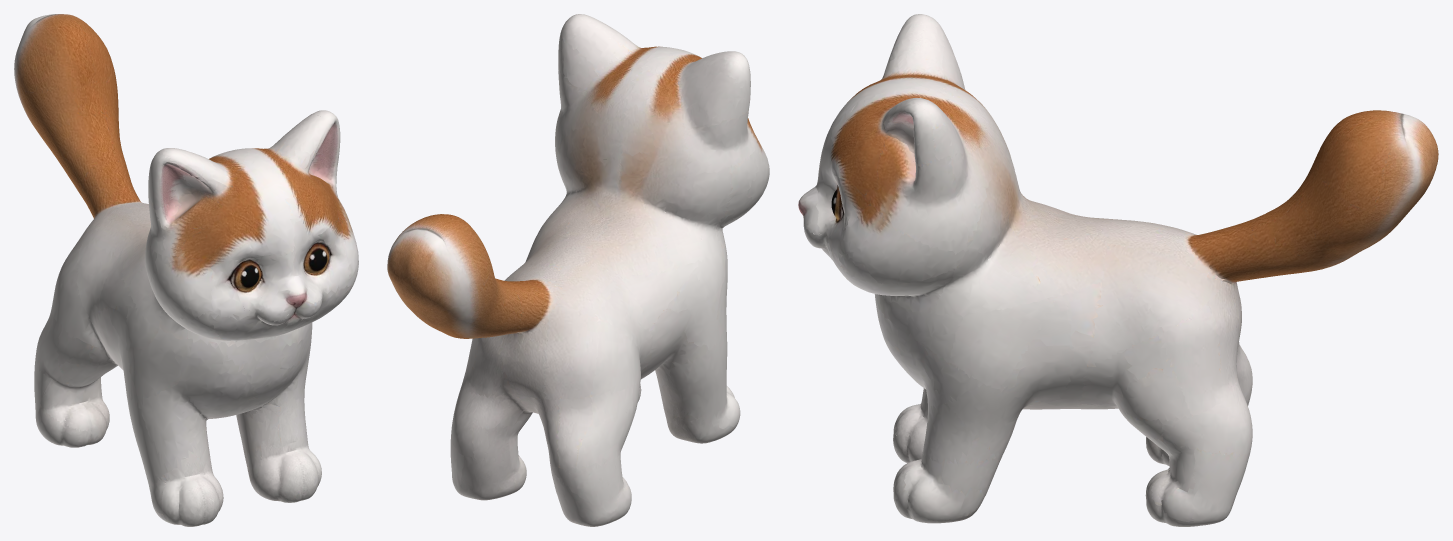
Rendered from meshy-van.glb.
The picture shows the model from 3 angles, left to right: view 1: azimuth 30°, elevation 25°; view 2: azimuth 150°, elevation 25°; view 3: azimuth 270°, elevation 25°; orthographic projection. The views are drawn at different scales.
Parts seen in each view (by area): view 1: Mesh_0; view 2: Mesh_0; view 3: Mesh_0.
Part boxes in pixels (box(x1,y1,x2,y2)): Mesh_0: box(14, 14, 358, 526); Mesh_0: box(387, 14, 769, 526); Mesh_0: box(798, 14, 1438, 526).
Bounding box in the file's own units: 0.7436 × 1.4 × 1.9.
Materials: 1 (1 with a texture image).
